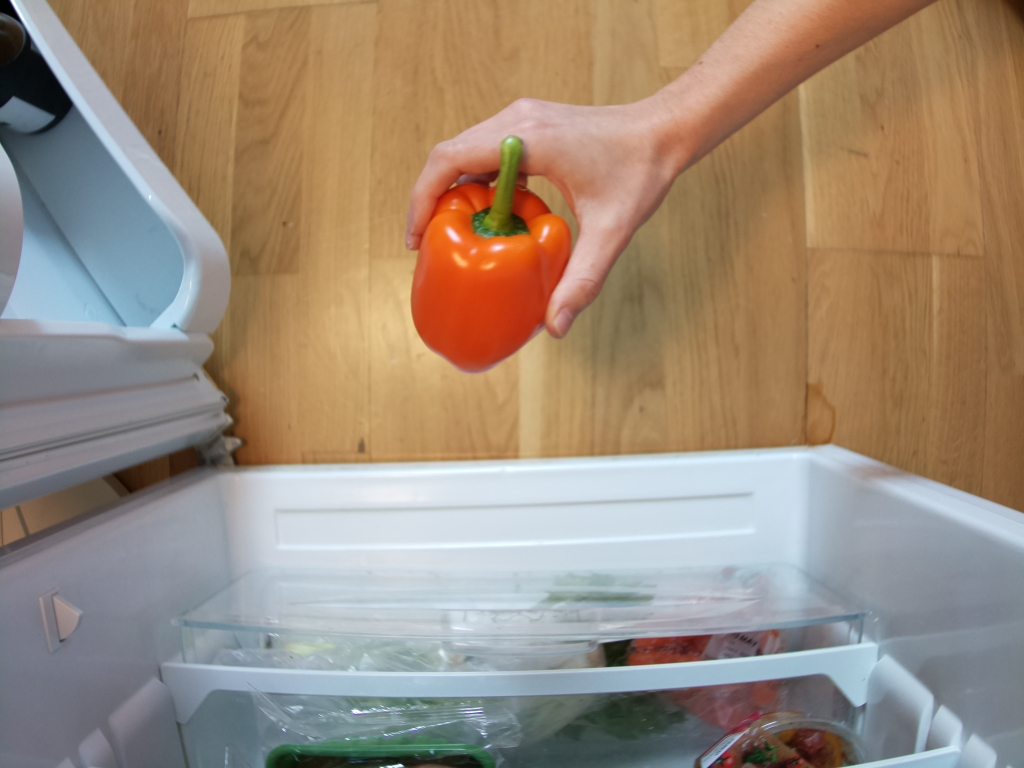pepper: (411, 133, 573, 377)
